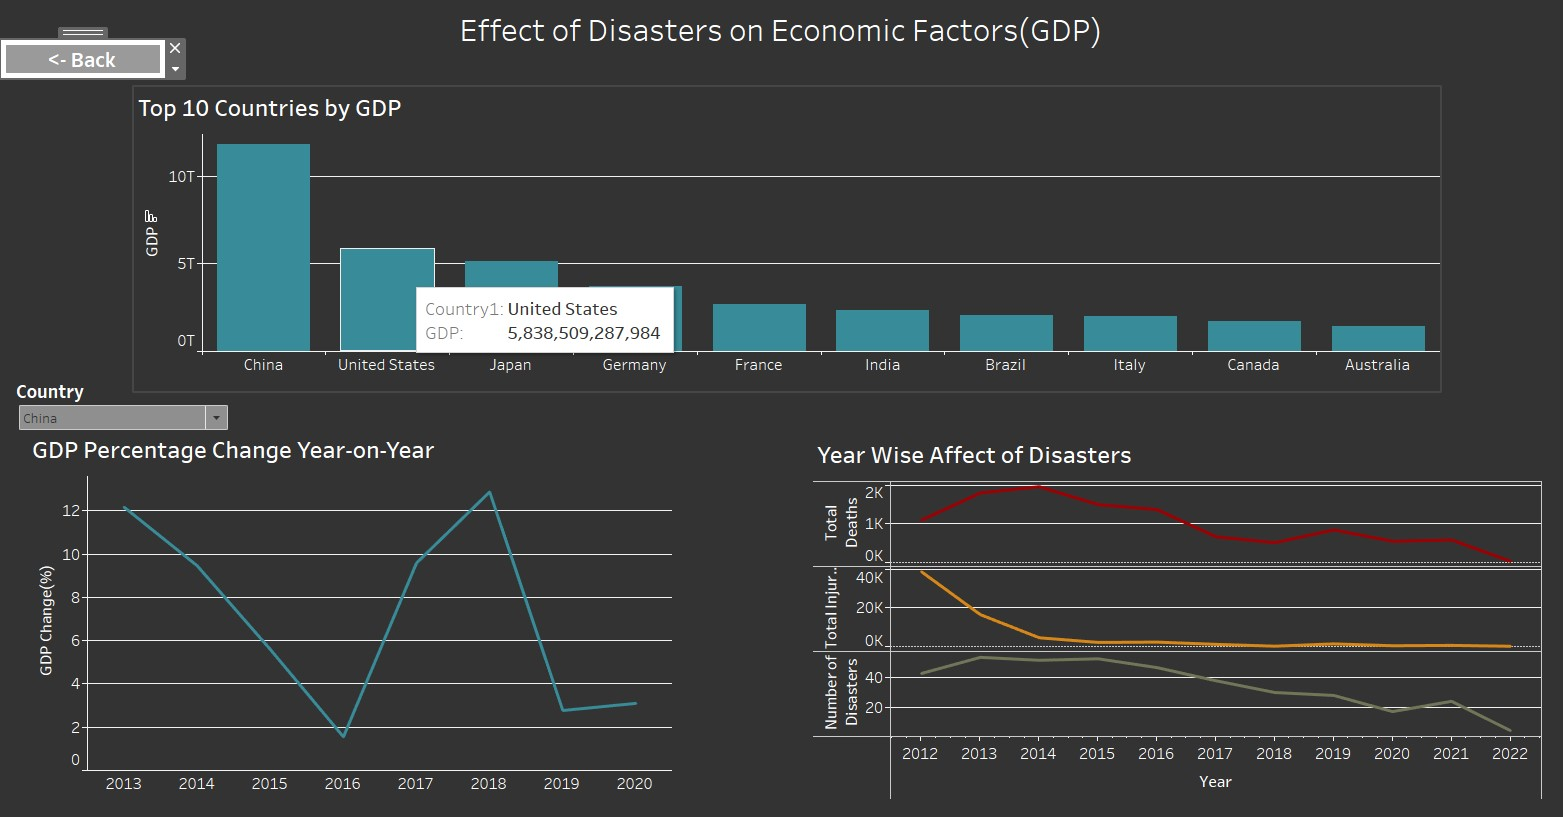

This screenshot's page, from the dashboard's own definition file:
{"tool":"tableau","page":{"name":"Dashboard 2","canvas":[1569,827],"ordinal":1},"visuals":[{"type":"title","box":[8,8,1553,50]},{"type":"dashboard-object","box":[5,44,164,38]},{"type":"worksheet","title":"GDP","mark":"Automatic","rows":["Pivot Field Values (Pivot1)"],"cols":["Country"],"box":[138.2,91,1305.9,304]},{"type":"filter","title":"GDP Change","param":"[federated.1pzrqai1v54i2g12y3eq81ipzzdz].[none:Country Name (GDP_Percent_Change.","box":[20.1,382,214.7,53]},{"type":"worksheet","title":"GDP Change","mark":"Line","rows":["Pivot Field Values"],"cols":["Pivot Field Names"],"box":[32.2,433,644.2,366]},{"type":"worksheet","title":"Compa","mark":"Automatic","rows":["Total Deaths","No Injured","Year"],"cols":["Year"],"box":[817.4,438,728.8,366]}]}

Visuals, with their boxes in screenshot pixels (x1, y1, x2, y2), scaled from the page's 1569x827 canvas onto the 1563x817 screenshot:
title: [8, 8, 1555, 57]
dashboard-object: [5, 43, 168, 81]
"GDP" worksheet: [138, 90, 1439, 390]
"GDP Change" filter: [20, 377, 234, 430]
"GDP Change" worksheet (Line marks): [32, 428, 674, 789]
"Compa" worksheet: [814, 433, 1540, 794]
